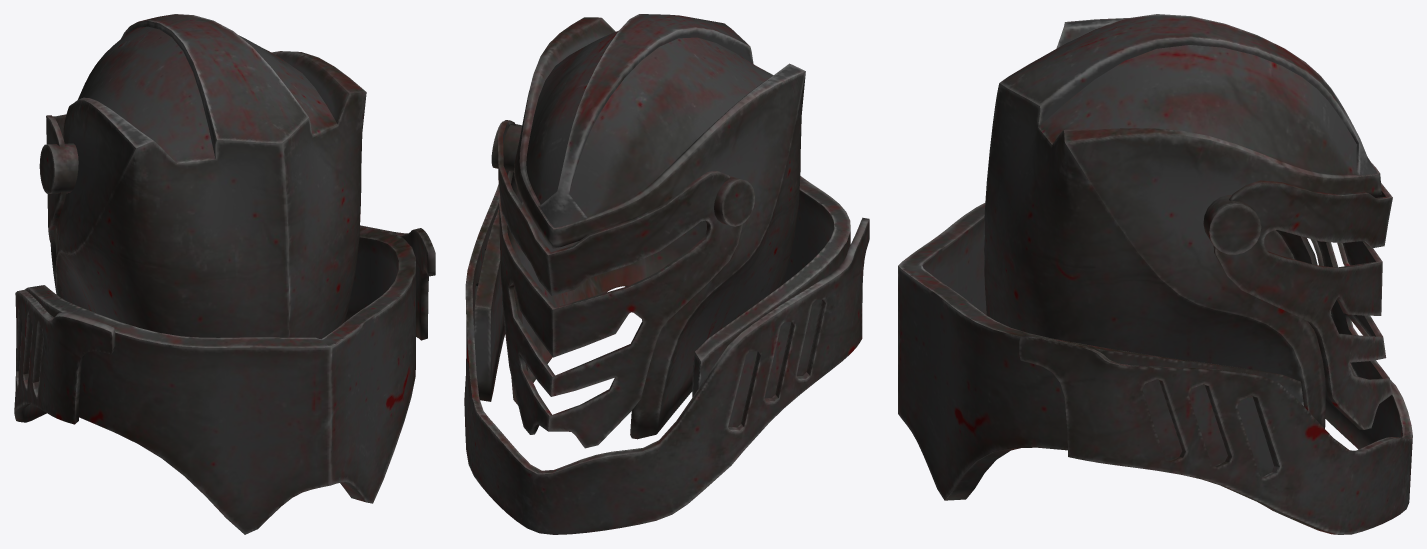
The model's file is ShardplateHelm.obj.
3 renders of one model, left to right at view 1: azimuth 30°, elevation 25°; view 2: azimuth 150°, elevation 25°; view 3: azimuth 270°, elevation 25°, orthographic. The views are drawn at different scales.
Visible parts, largest first — view 1: ShardplateHelm; view 2: ShardplateHelm; view 3: ShardplateHelm.
Boxes of the visible parts, <box> form: ShardplateHelm: <box>14,14,435,534</box>; ShardplateHelm: <box>464,14,869,534</box>; ShardplateHelm: <box>898,14,1412,534</box>.
Bounding box in the file's own units: 0.2245 × 0.261 × 0.2559.
1 material, 1 textured.
